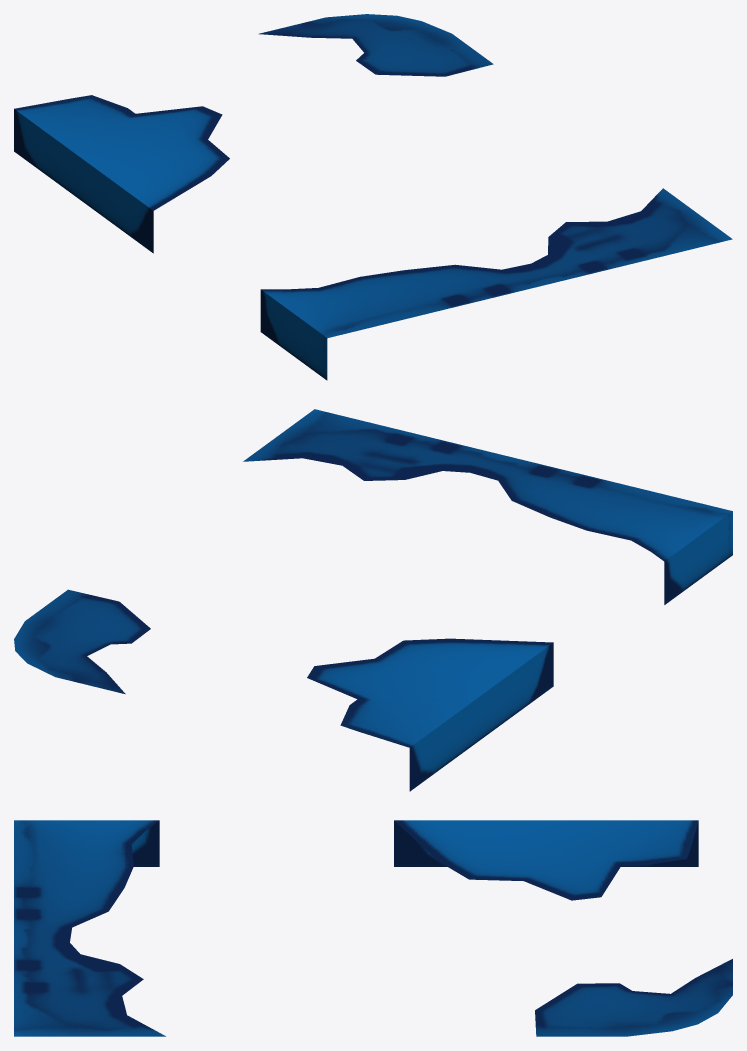
File: Water_01.FBX
3 renders of one model, top to bottom at view 1: azimuth 30°, elevation 25°; view 2: azimuth 150°, elevation 25°; view 3: azimuth 270°, elevation 25°, orthographic. The views are drawn at different scales.
Parts seen in each view (by area): view 1: Water_01; view 2: Water_01; view 3: Water_01.
Part boxes in pixels (x1,y1,x2,y2): Water_01: (14,14,732,380); Water_01: (14,409,732,791); Water_01: (14,820,732,1036).
Bounding box in the file's own units: 17.8 × 1.79 × 25.02.
